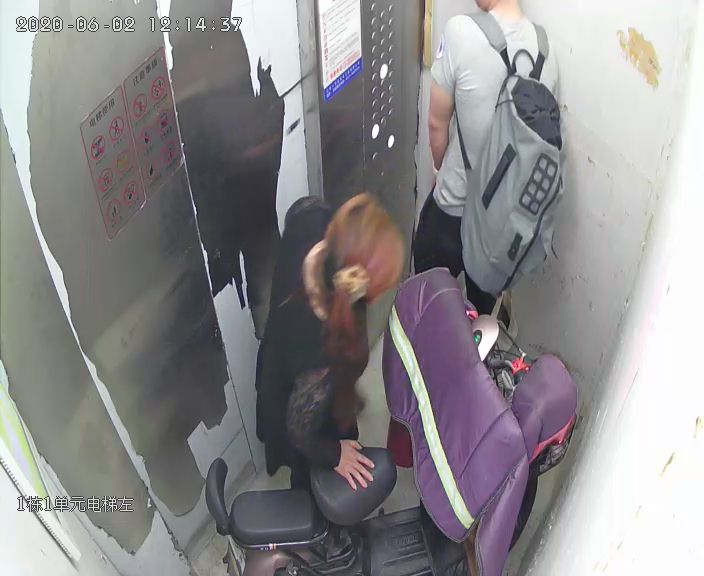Electric-bicycle: (202, 269, 576, 576)
